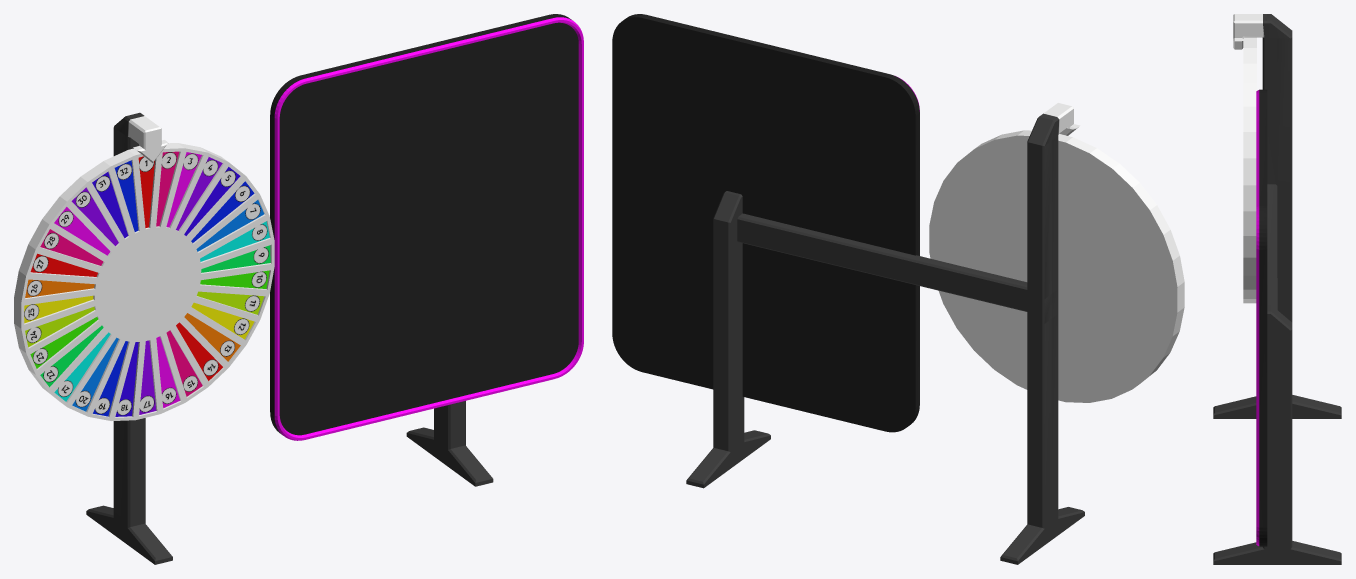
File: Wheel.fbx
3 views of the same model, side by side, from view 1: azimuth 30°, elevation 25°; view 2: azimuth 150°, elevation 25°; view 3: azimuth 270°, elevation 25° (orthographic). The views are drawn at different scales.
Visible parts, largest first — view 1: SM_ScoreScreen, SM_Wheel; view 2: SM_ScoreScreen, SM_Wheel; view 3: SM_ScoreScreen, SM_Wheel.
Boxes of the visible parts, x1,y1,x2,y2 form: SM_ScoreScreen: (86, 14, 583, 564); SM_Wheel: (14, 143, 274, 420); SM_ScoreScreen: (612, 14, 1084, 564); SM_Wheel: (929, 130, 1184, 402); SM_ScoreScreen: (1213, 14, 1341, 564); SM_Wheel: (1243, 37, 1256, 303).
Size of the model in its own units: 641 by 456 by 133.
Materials: 4 (1 with a texture image).
